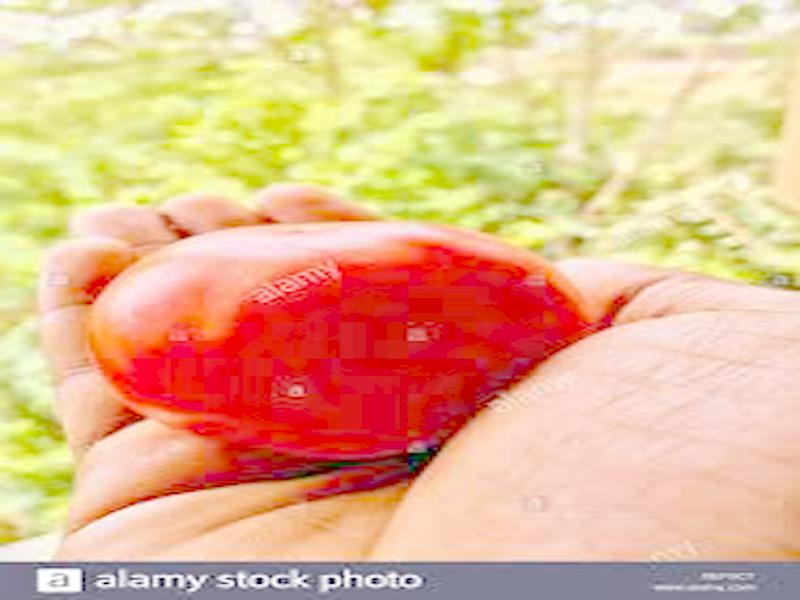Tomato: (89, 224, 583, 457)
